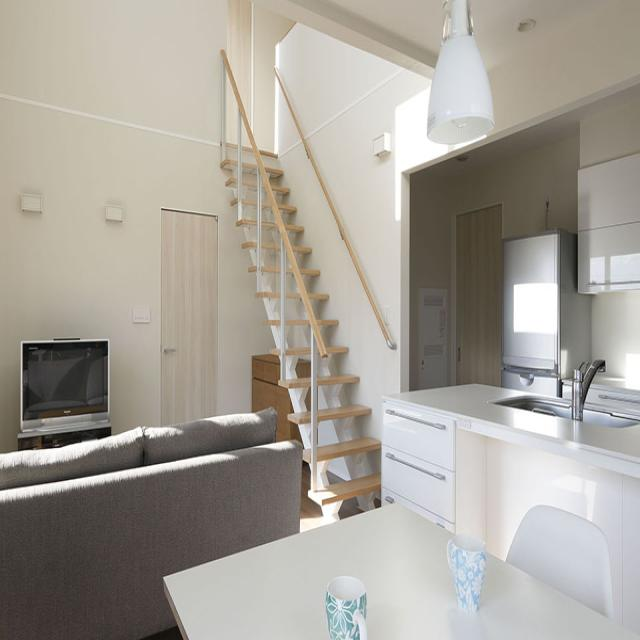white desk: (150, 503, 626, 639)
